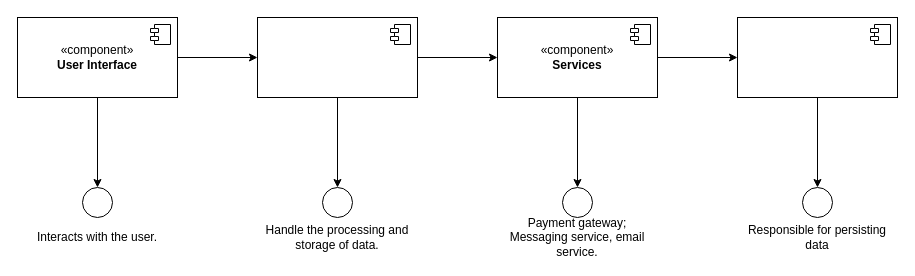
Some shapes in this 915 by 276 pixel diagram are drawn without their labels. Each missing label, with the centre of its shape:
«component» Backend: the point at 337,57
«component» Storage: the point at 817,57
